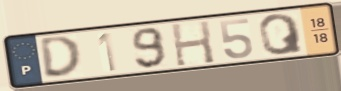1: (97, 31, 119, 72)
5: (216, 16, 255, 60)
9: (130, 26, 170, 70)
D: (37, 34, 84, 79)
H: (169, 19, 218, 68)
Q: (256, 12, 306, 57)
